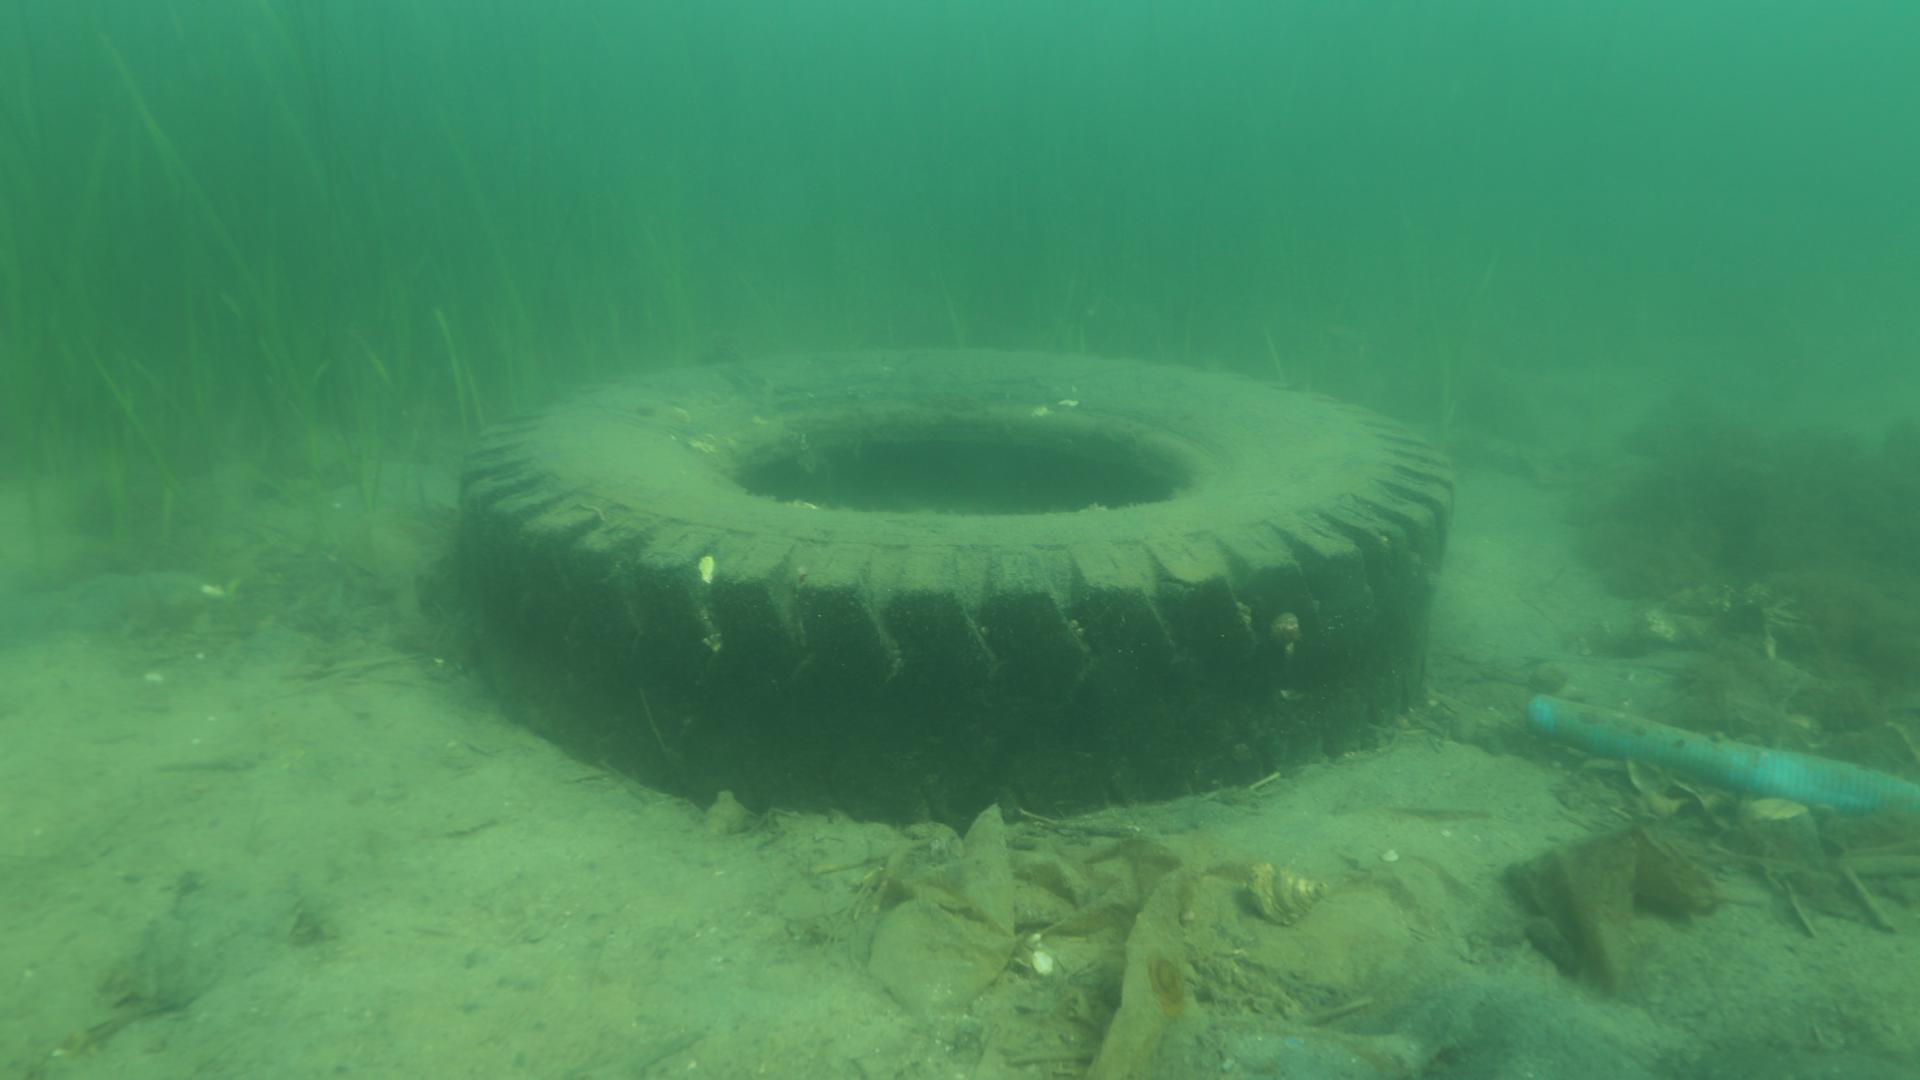tire: (459, 345, 1457, 831)
